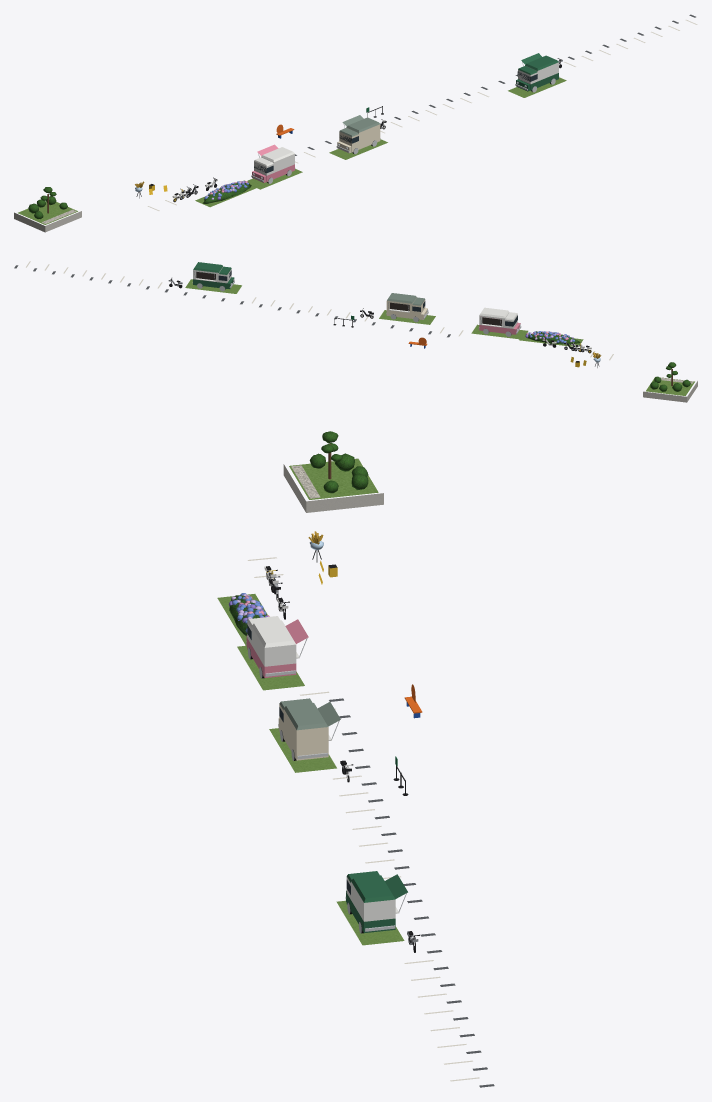
The model's file is jzx_street.glb.
The picture shows the model from 3 angles, top to bottom: view 1: azimuth 30°, elevation 25°; view 2: azimuth 150°, elevation 25°; view 3: azimuth 270°, elevation 25°; orthographic projection. The views are drawn at different scales.
Visible parts, largest first — view 1: 东苑美食街街面; view 2: 东苑美食街街面; view 3: 东苑美食街街面.
Boxes of the visible parts, left/top/right/bottom form: 东苑美食街街面: left=14, top=14, right=697, bottom=232; 东苑美食街街面: left=14, top=261, right=697, bottom=402; 东苑美食街街面: left=217, top=431, right=494, bottom=1087.
Size of the model in its own units: 88.71 by 3.74 by 16.63.
Materials: 34 (6 with a texture image).
